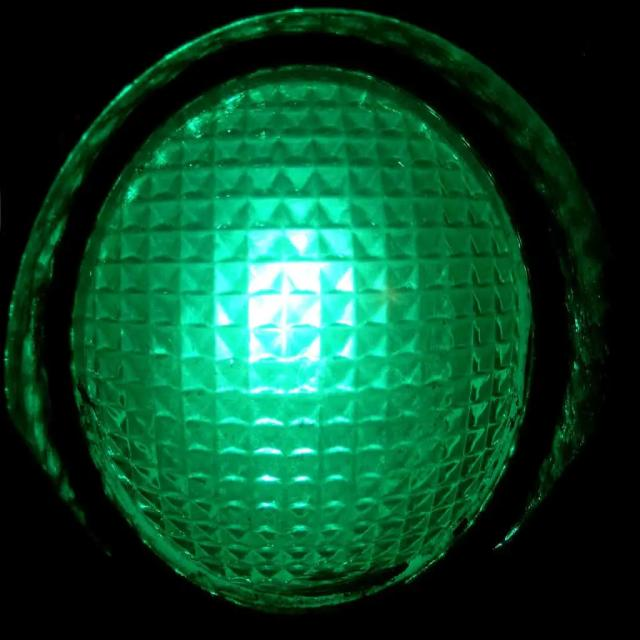green: (23, 42, 600, 606)
